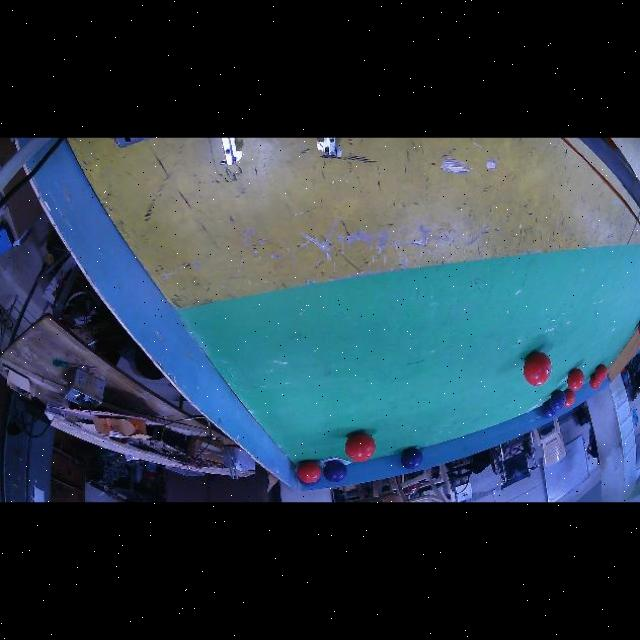P: (324, 461, 346, 482), (401, 448, 422, 469), (549, 390, 567, 411), (541, 401, 556, 419), (298, 478, 320, 487)
R: (524, 352, 551, 386), (345, 433, 375, 462), (297, 461, 321, 483), (568, 368, 584, 391), (596, 364, 607, 382), (589, 374, 601, 390), (564, 390, 575, 407)
